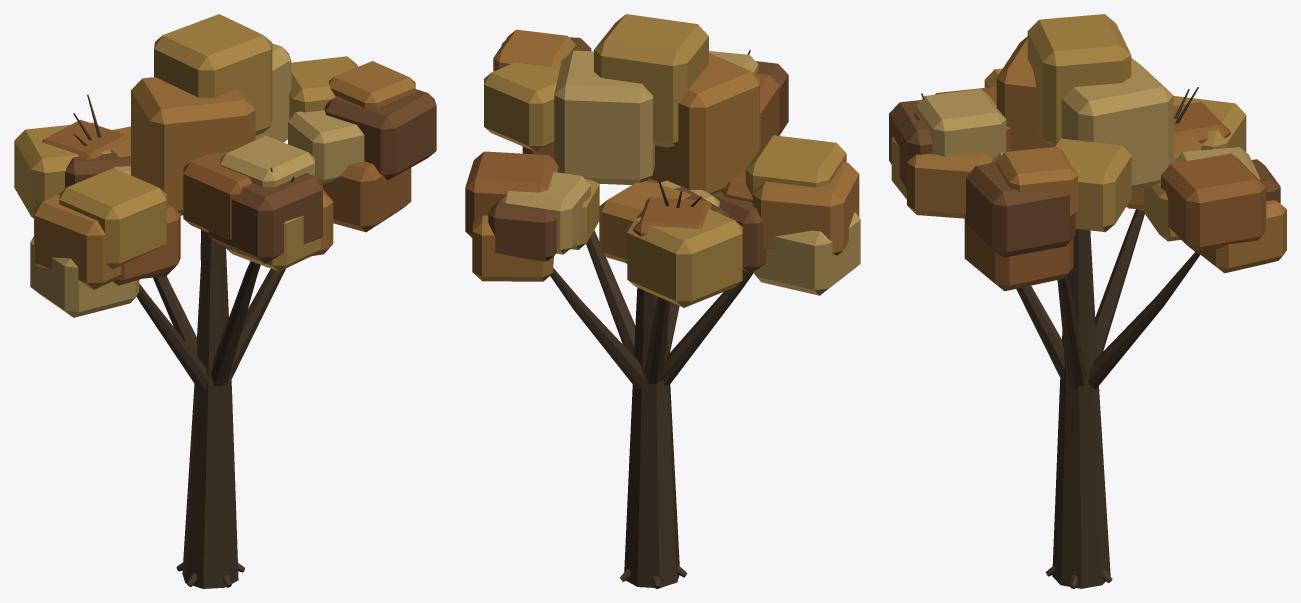
The model's file is oak_sapling_autumn.glb.
3 views of the same model, side by side, from view 1: azimuth 30°, elevation 25°; view 2: azimuth 150°, elevation 25°; view 3: azimuth 270°, elevation 25° (orthographic).
Parts seen in each view (by area): view 1: oak_sapling_autumn; view 2: oak_sapling_autumn; view 3: oak_sapling_autumn.
Part boxes in pixels (x1,y1,x2,y2): oak_sapling_autumn: (14,14,436,588); oak_sapling_autumn: (465,14,860,588); oak_sapling_autumn: (889,14,1286,588).
Bounding box in the file's own units: 5.01 × 7 × 4.63.
